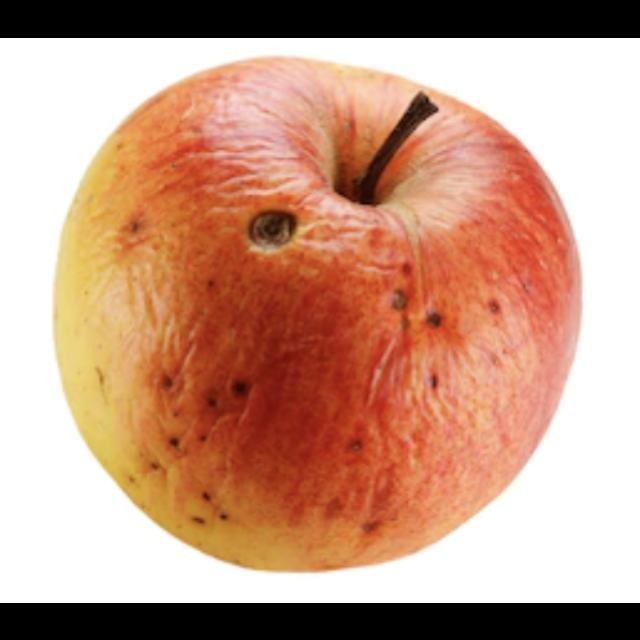Apel Tidak Segar: (52, 45, 586, 573)
